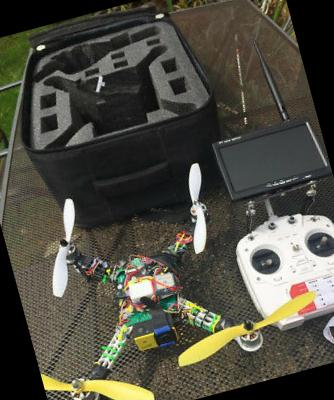drone: (2, 142, 334, 400)
